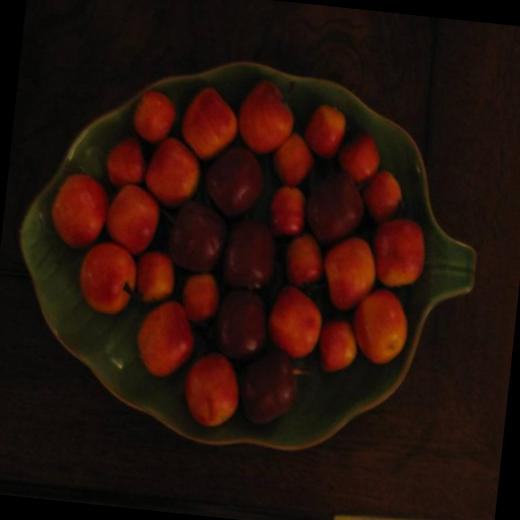Apple: (62, 63, 441, 450), (44, 168, 109, 250)
